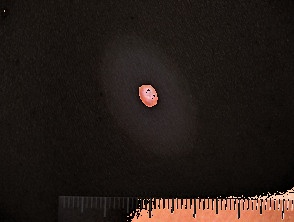vitiligo: (66, 10, 231, 173)
